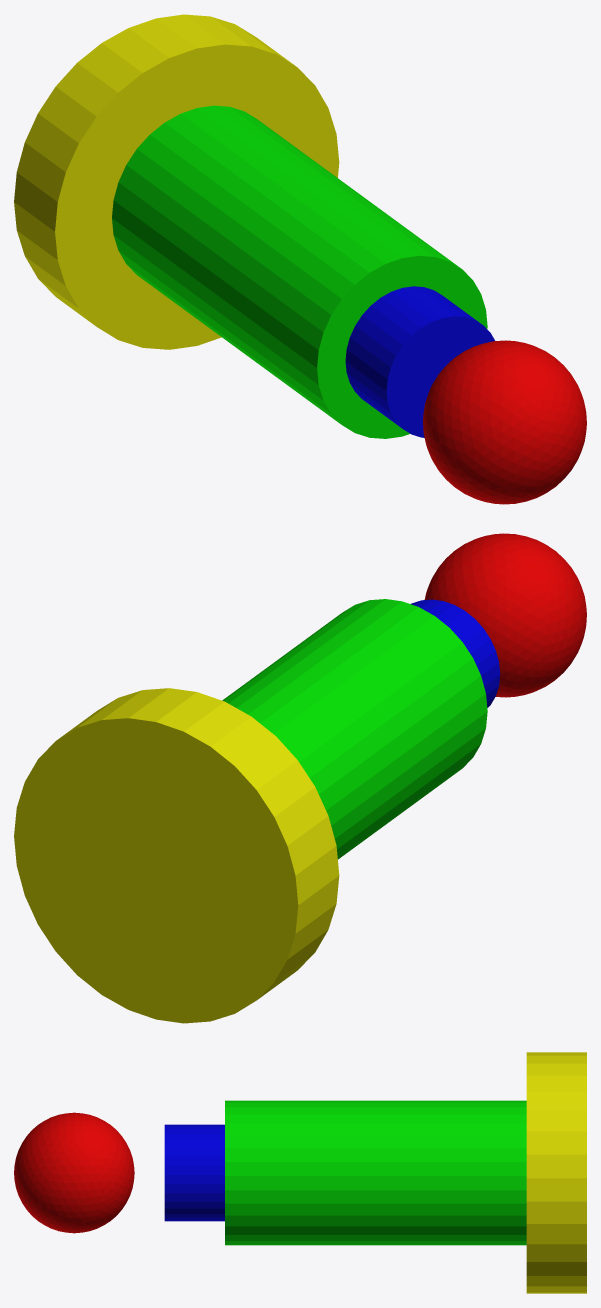
Rendered from alfil.glb.
3 views of the same model, one above another, from view 1: azimuth 30°, elevation 25°; view 2: azimuth 150°, elevation 25°; view 3: azimuth 270°, elevation 25° (orthographic). The views are drawn at different scales.
Visible parts, largest first — view 1: world; view 2: world; view 3: world.
Boxes of the visible parts, box(x1,y1,x2,y2) form: world: box(14, 14, 586, 504); world: box(14, 533, 586, 1023); world: box(14, 1052, 586, 1293).
Bounding box in the file's own units: 4 × 4 × 9.5.
